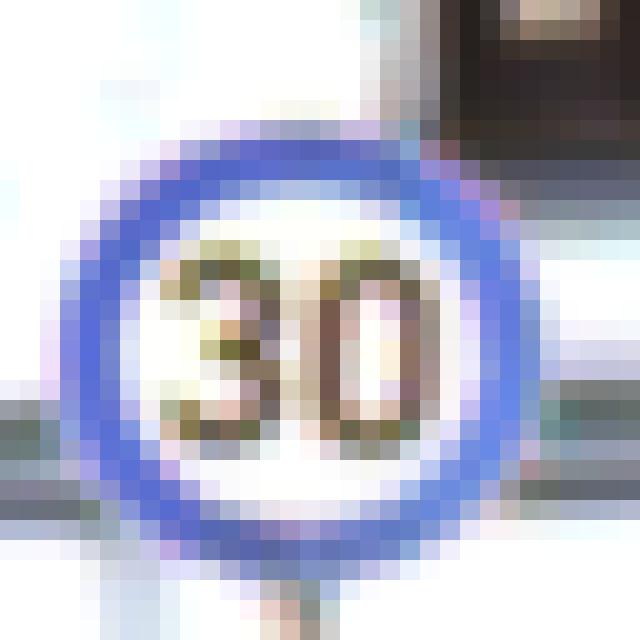SPEED LIMIT 30: (164, 180, 494, 564)
